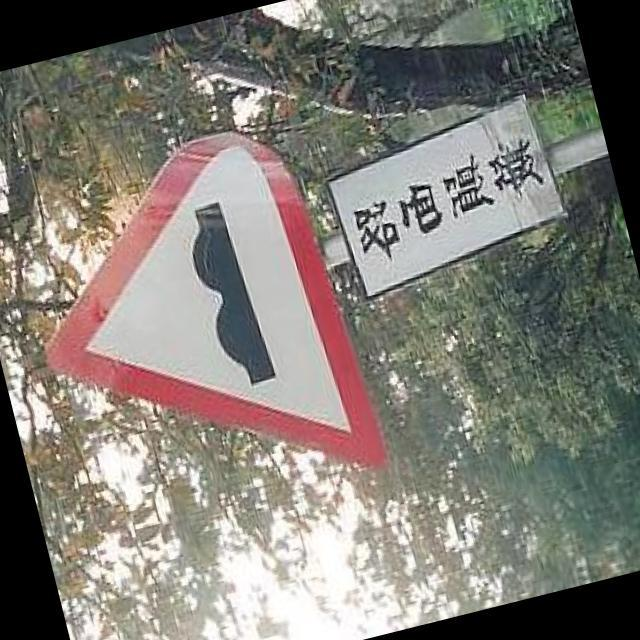obstructed_road_sign: (49, 134, 386, 468)
